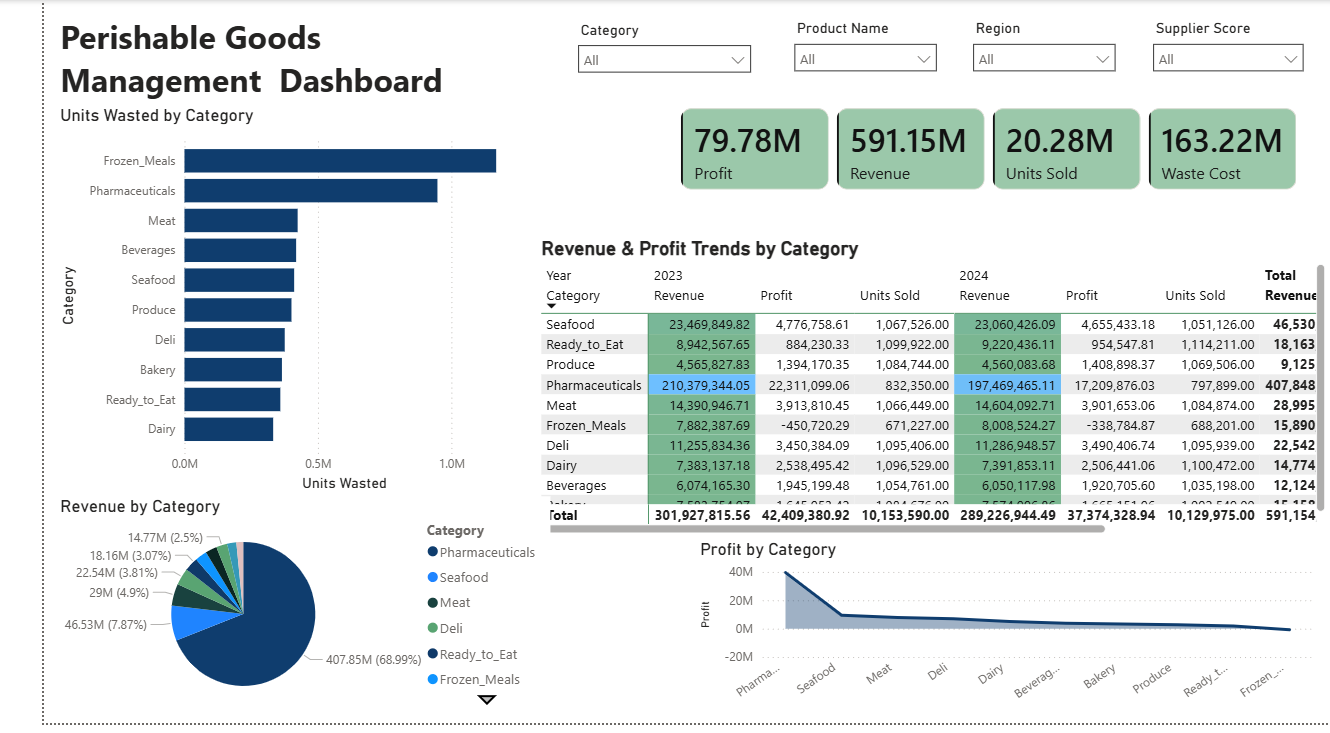

The page's visual inventory and layout, read from the dashboard file:
{"tool":"powerbi","page":{"name":"Sales Dashboard","canvas":[1280,720],"ordinal":0},"visuals":[{"type":"pivotTable","title":"Revenue & Profit Trends by Category","fields":{"Rows":["Dim Product.Category"],"Values":["Fact Transaction.Revenue","Fact Transaction.Profit","Fact Transaction.Units Sold"],"Columns":["Dim Date.Year"]},"box":[489.9,236,790.4,300.5],"z":0},{"type":"textbox","box":[11,9.6,402.1,94.7],"z":1000},{"type":"slicer","fields":{"Values":["Dim Product.Category"]},"box":[521.4,16.5,192.1,75.5],"z":2000},{"type":"slicer","fields":{"Values":["Dim Product.Product Name"]},"box":[736.9,15.1,161.9,76.8],"z":3000},{"type":"slicer","fields":{"Values":["Dim Store.Region"]},"box":[913.9,15.1,161.9,76.8],"z":4000},{"type":"slicer","fields":{"Values":["Dim Supplier.Supplier Score"]},"box":[1093.7,15.1,170.2,75.5],"z":5000},{"type":"cardVisual","fields":{"Data":["Fact Transaction.Profit","Fact Transaction.Revenue","Fact Transaction.Units Sold","Fact Transaction.Waste Cost"]},"box":[617.5,90.6,649.1,115.3],"z":6000},{"type":"areaChart","fields":{"Category":["Dim Product.Category"],"Y":["Fact Transaction.Profit"]},"box":[647.7,536.5,618.9,172.9],"z":7000},{"type":"pieChart","fields":{"Category":["Dim Product.Category"],"Y":["Fact Transaction.Revenue"]},"box":[11,494,492.6,215.4],"z":8000},{"type":"clusteredBarChart","fields":{"Category":["Dim Product.Category"],"Y":["Fact Transaction.Units Wasted"]},"box":[11,104.3,466.6,389.7],"z":9000}]}

Visuals, with their boxes in screenshot pixels (x1, y1, x2, y2), scaled from the page's 1280x720 canvas onto the 1330x733 screenshot:
"Revenue & Profit Trends by Category" pivotTable: bbox=[509, 240, 1329, 546]
textbox: bbox=[11, 10, 429, 106]
slicer - Dim Product.Category: bbox=[542, 17, 741, 94]
slicer - Dim Product.Product Name: bbox=[766, 15, 934, 94]
slicer - Dim Store.Region: bbox=[950, 15, 1118, 94]
slicer - Dim Supplier.Supplier Score: bbox=[1136, 15, 1313, 92]
cardVisual - Fact Transaction.Profit x Fact Transaction.Revenue: bbox=[642, 92, 1316, 210]
areaChart - Dim Product.Category x Fact Transaction.Profit: bbox=[673, 546, 1316, 722]
pieChart - Dim Product.Category x Fact Transaction.Revenue: bbox=[11, 503, 523, 722]
clusteredBarChart - Dim Product.Category x Fact Transaction.Units Wasted: bbox=[11, 106, 496, 503]
